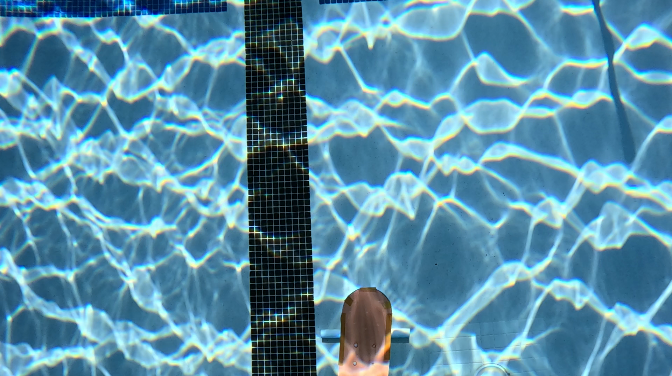pathmarker: (339, 287, 391, 375)
